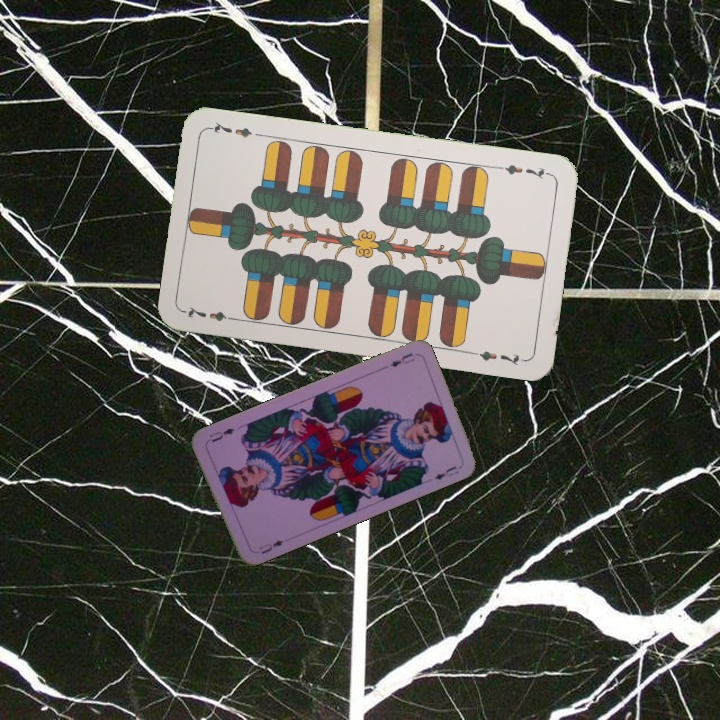E7: (494, 160, 553, 182), (182, 302, 240, 324)
EU: (255, 536, 286, 557), (386, 349, 417, 370)
